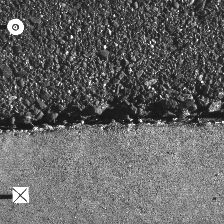circle: (6, 18, 24, 35)
crack: (1, 109, 221, 130)
square: (12, 187, 29, 203)
